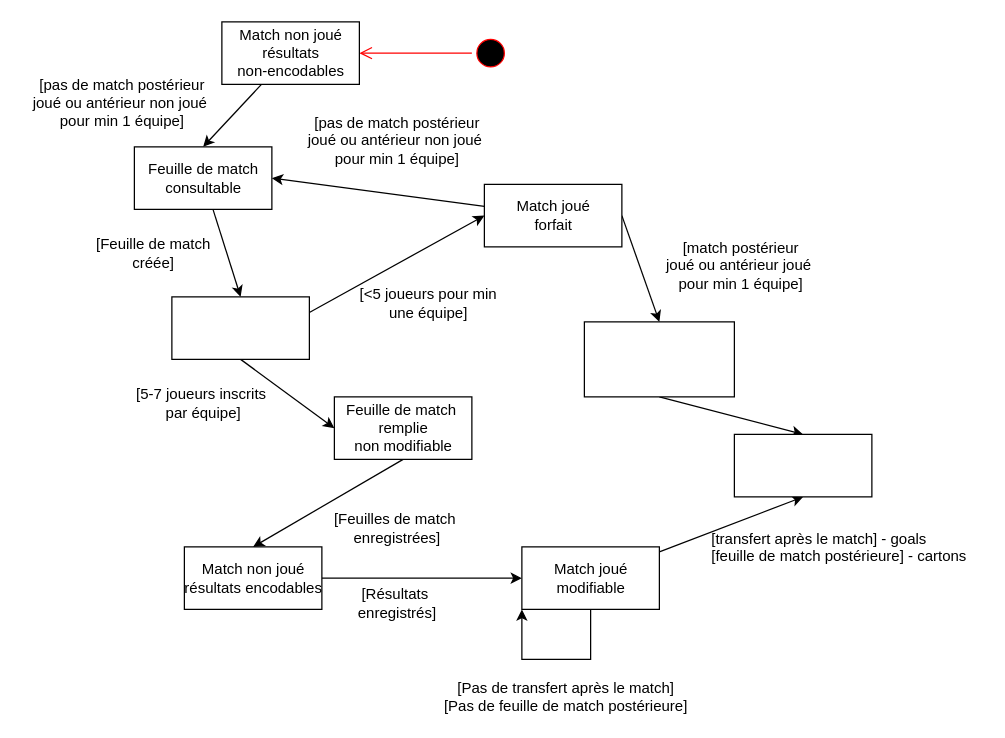
The diagram is 1005 pixels wide and 738 high, and some of its shapes have lost their labels. The centre of each missing label's shape, as x and y in pixels:
Feuille de match non remplie: the point at 240,327
Feuille de match non-remplie non modifiable: the point at 658,359
Match joué non-modifiable: the point at 802,465
